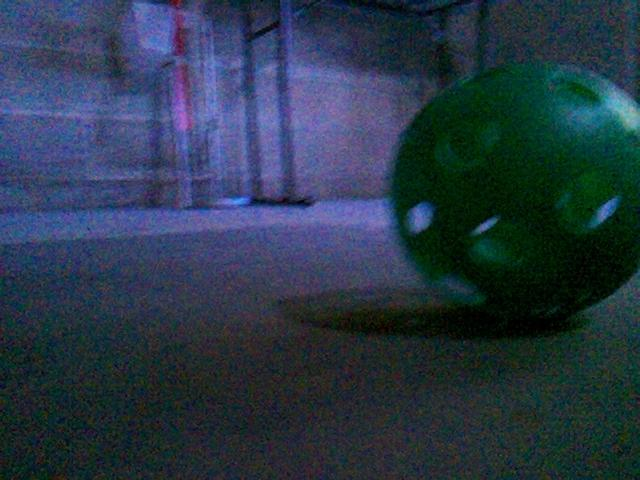Green: (391, 62, 640, 323)
